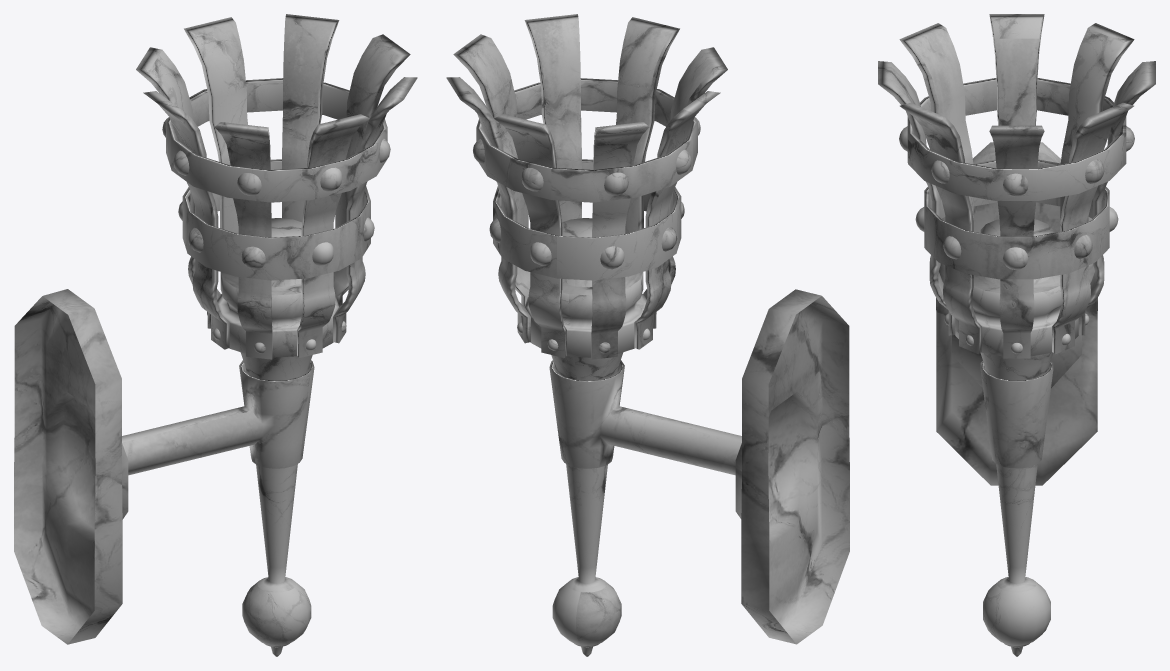
File: torch2.obj
3 renders of one model, left to right at view 1: azimuth 30°, elevation 25°; view 2: azimuth 150°, elevation 25°; view 3: azimuth 270°, elevation 25°, orthographic.
Visible parts, largest first — view 1: Wall_Sconce_Mesh.002; view 2: Wall_Sconce_Mesh.002; view 3: Wall_Sconce_Mesh.002.
Part boxes in pixels (x1,y1,x2,y2): Wall_Sconce_Mesh.002: (14, 14, 417, 656); Wall_Sconce_Mesh.002: (446, 14, 849, 656); Wall_Sconce_Mesh.002: (878, 14, 1155, 656).
Size of the model in its own units: 0.3589 by 0.5841 by 0.2516.
